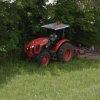Tractor: (23, 17, 82, 69)
